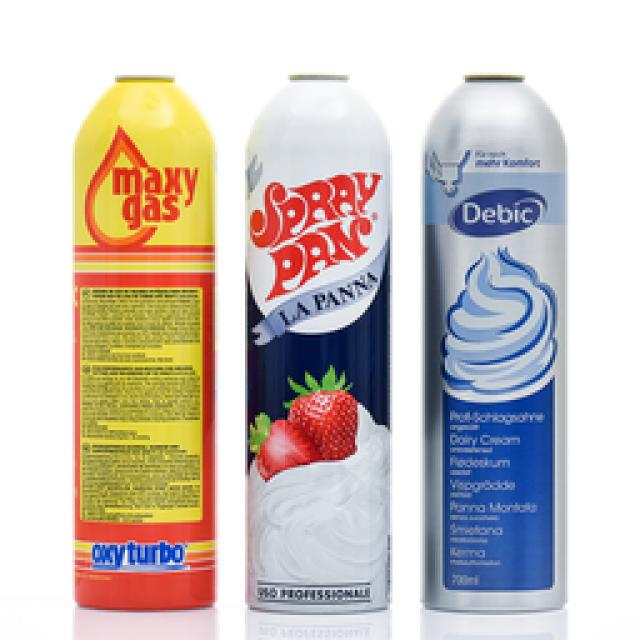alumunium: (242, 75, 388, 635), (422, 75, 562, 618), (72, 78, 212, 608)
